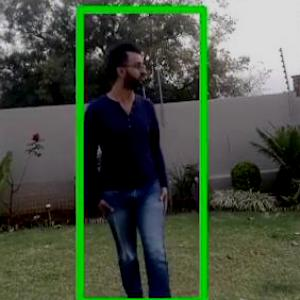follow: (81, 37, 178, 299)
